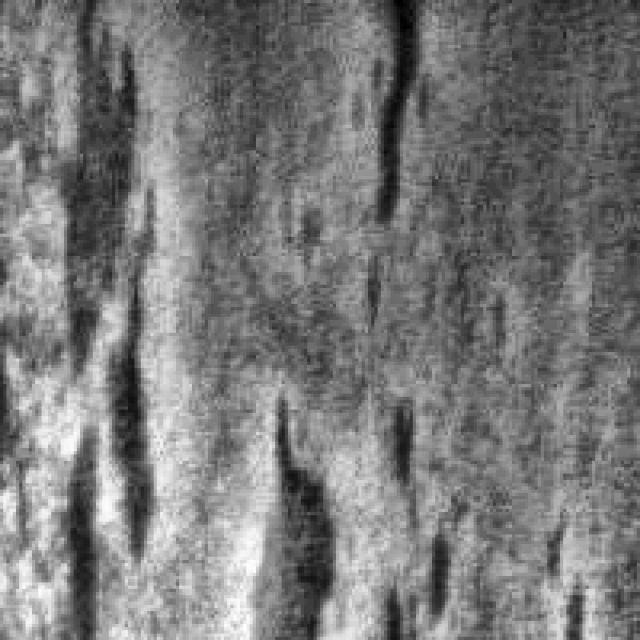Patches: (16, 7, 154, 630), (237, 381, 333, 634), (345, 0, 432, 230), (368, 508, 451, 630), (532, 508, 598, 630), (372, 387, 422, 538)
